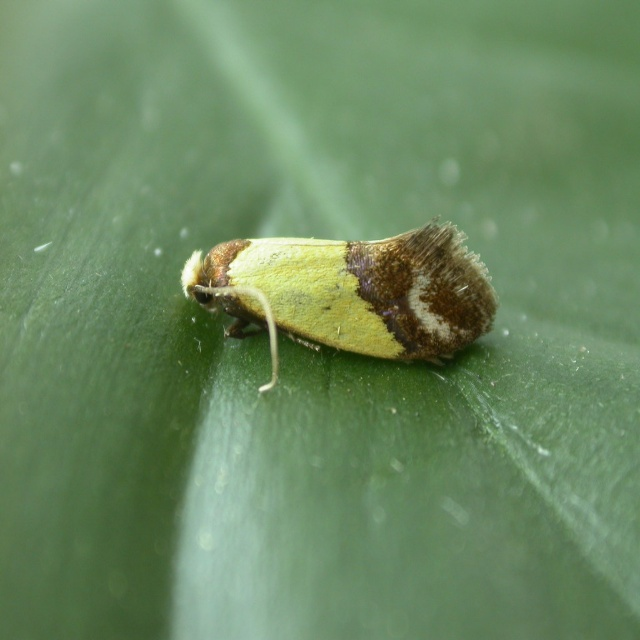Moths and butterflies: (178, 212, 499, 393)
